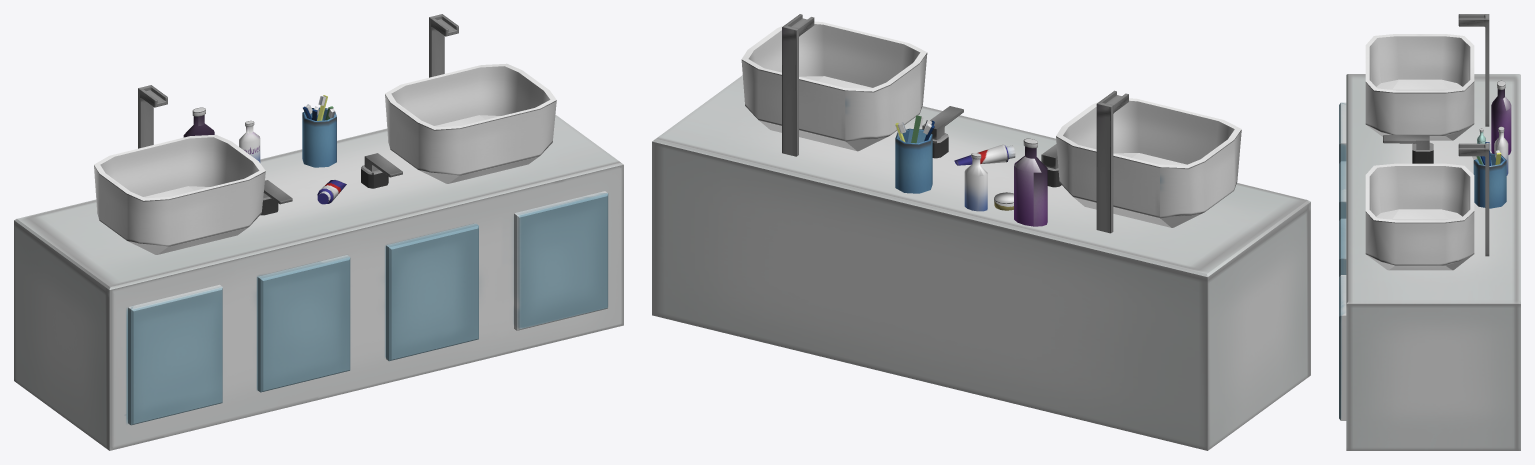
Rendered from ToiletSink.fbx.
3 renders of one model, left to right at view 1: azimuth 30°, elevation 25°; view 2: azimuth 150°, elevation 25°; view 3: azimuth 270°, elevation 25°, orthographic. The views are drawn at different scales.
Parts seen in each view (by area): view 1: SinkKabinet, Sink; view 2: SinkKabinet, Sink; view 3: SinkKabinet, Sink.
Part boxes in pixels (x1,y1,x2,y2): SinkKabinet: (14, 114, 623, 450); Sink: (94, 14, 556, 254); SinkKabinet: (652, 75, 1310, 450); Sink: (741, 14, 1241, 233); SinkKabinet: (1339, 74, 1520, 450); Sink: (1365, 14, 1511, 270).
Size of the model in its own units: 15.86 by 8.23 by 5.31.
